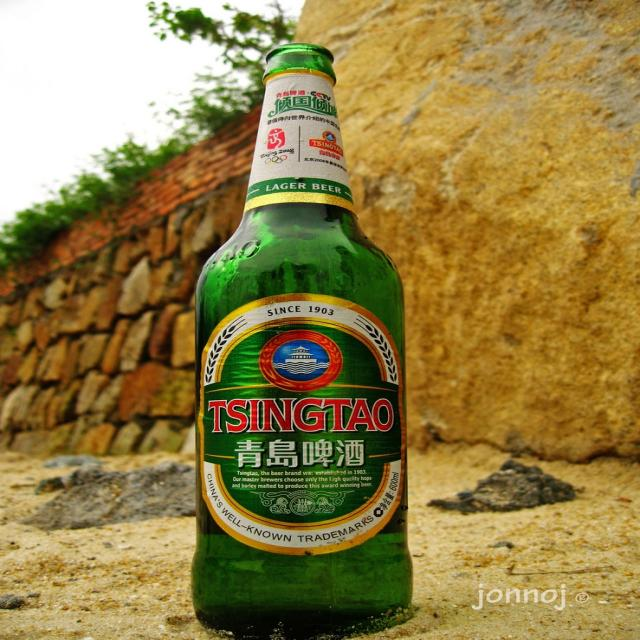tsingtao: (198, 293, 409, 558)
